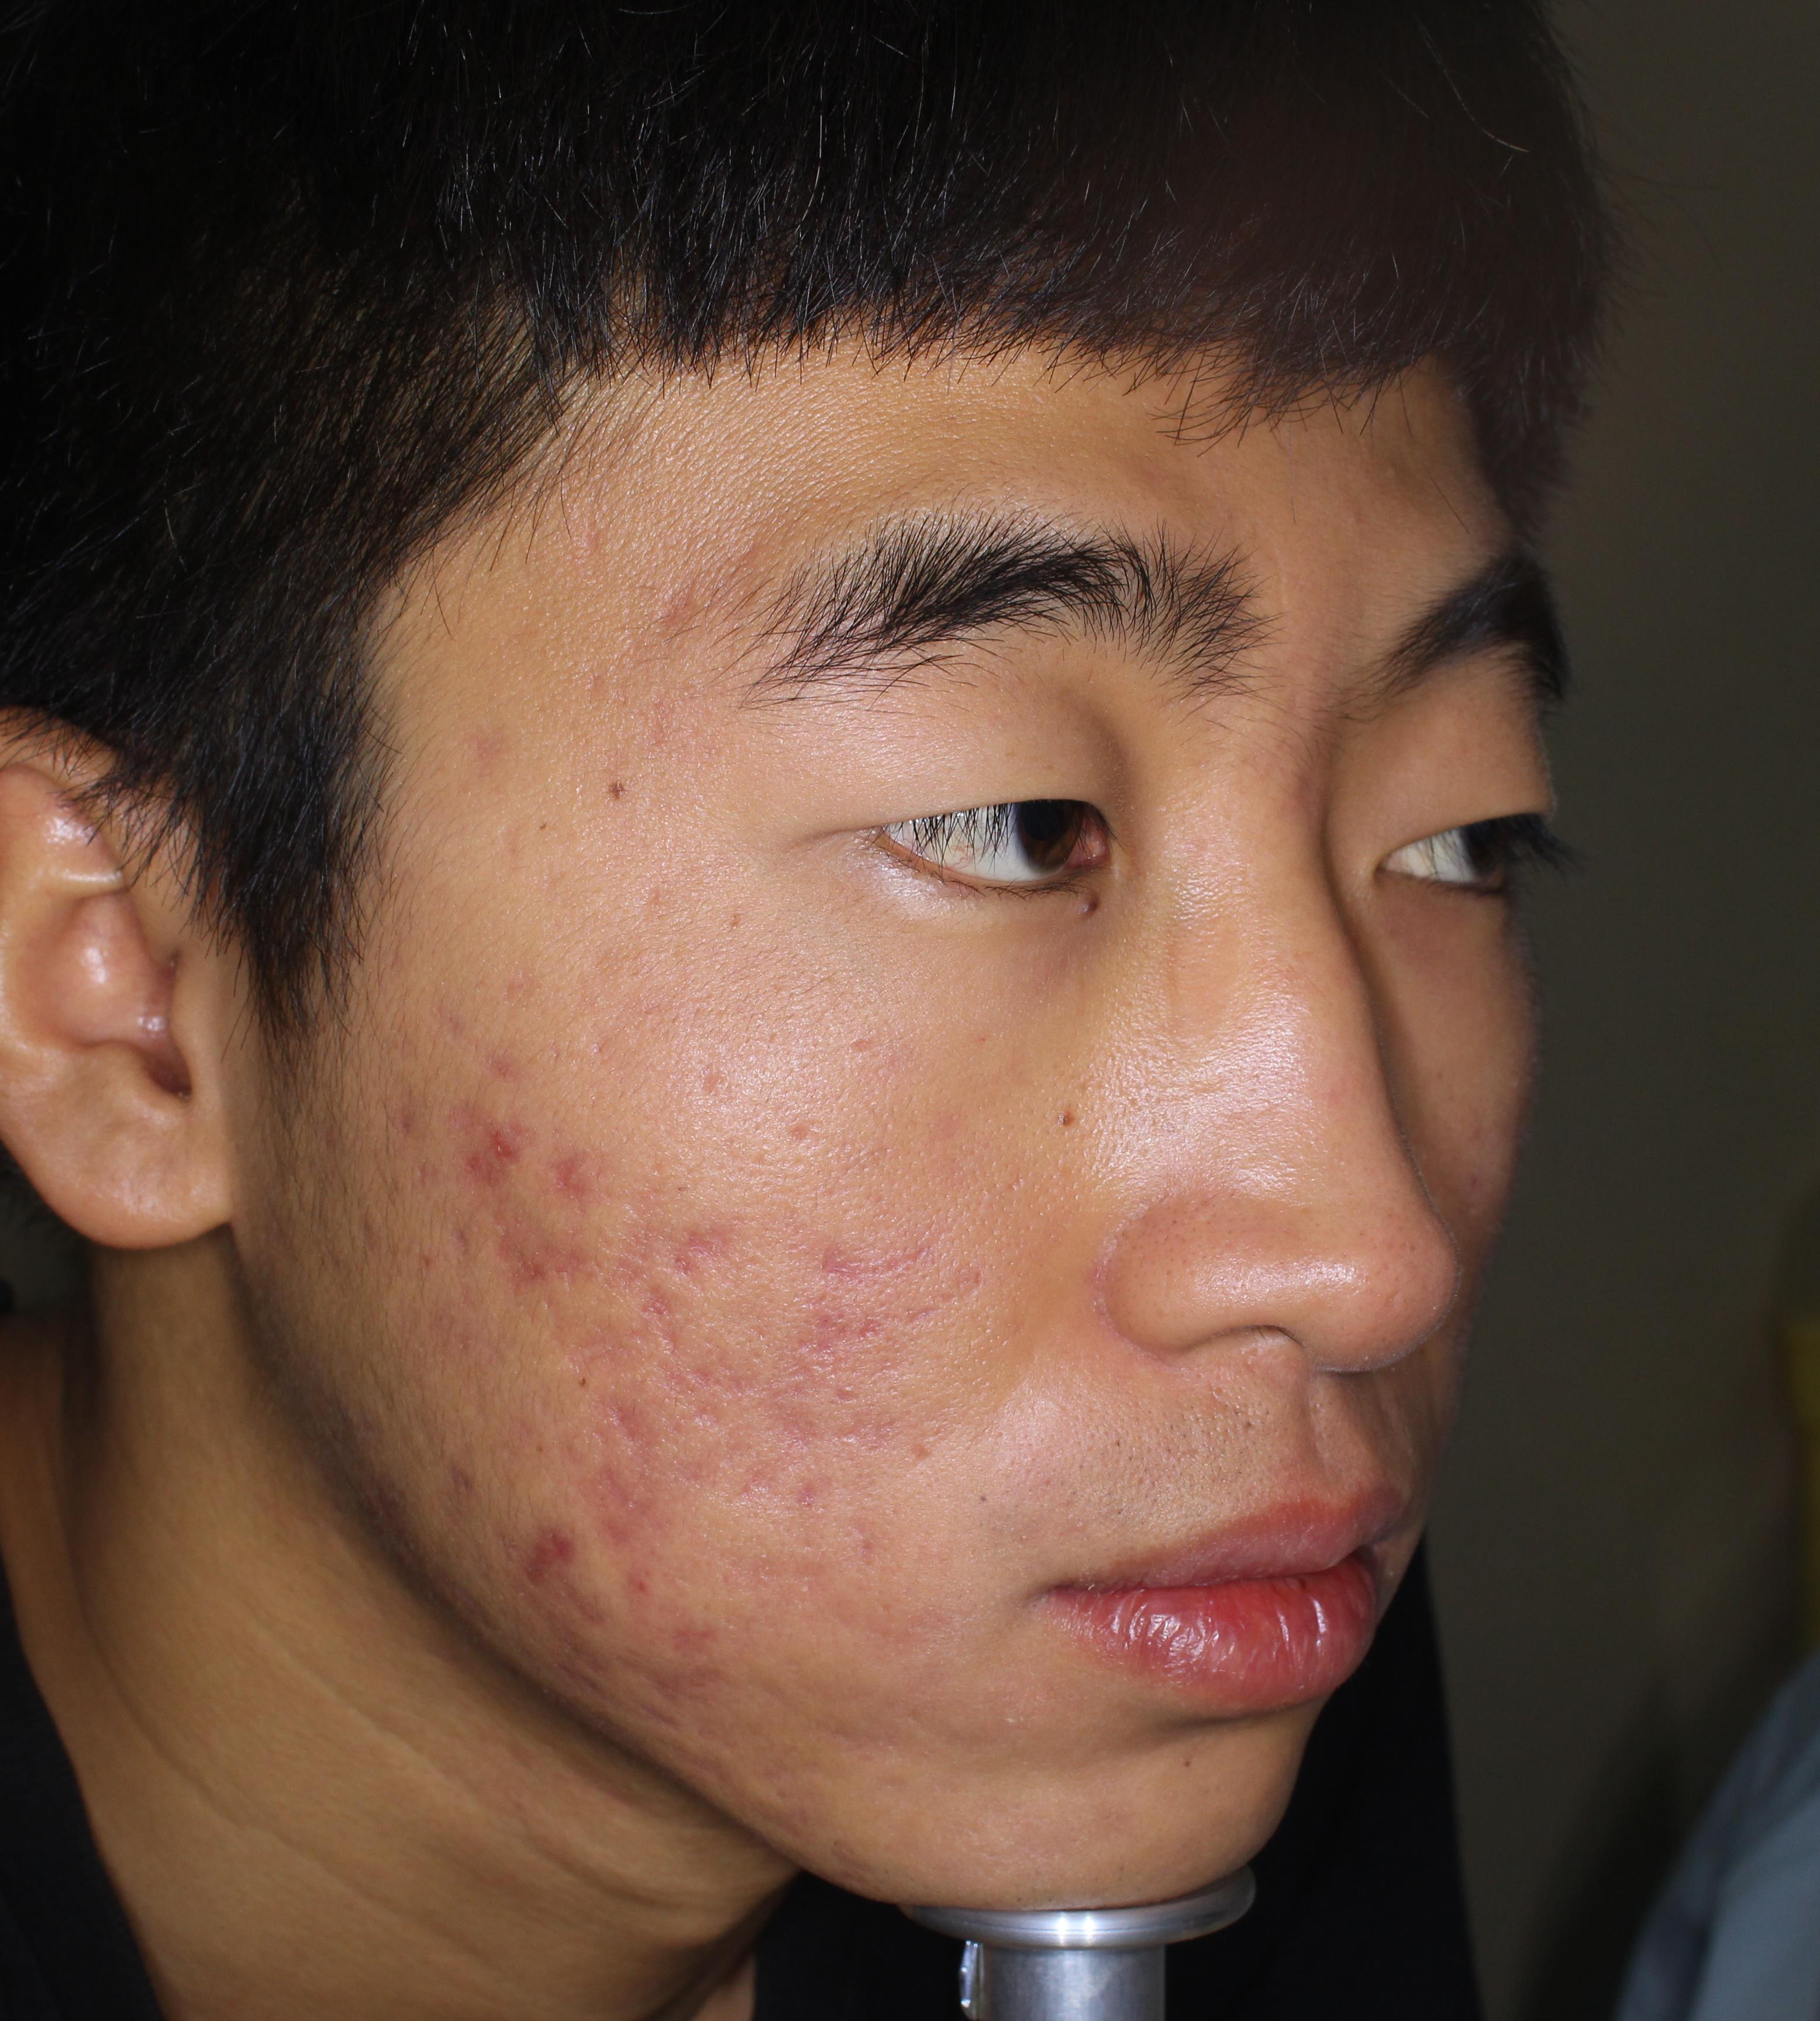fore: (655, 1608, 727, 1742), (566, 1450, 673, 1540), (768, 1217, 857, 1306), (652, 1185, 727, 1289), (516, 1505, 583, 1621), (534, 1118, 615, 1208), (476, 1217, 571, 1285), (780, 1315, 875, 1384), (441, 1115, 539, 1173), (603, 1545, 682, 1612)
